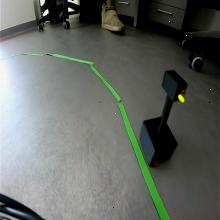green: (161, 69, 188, 104)
